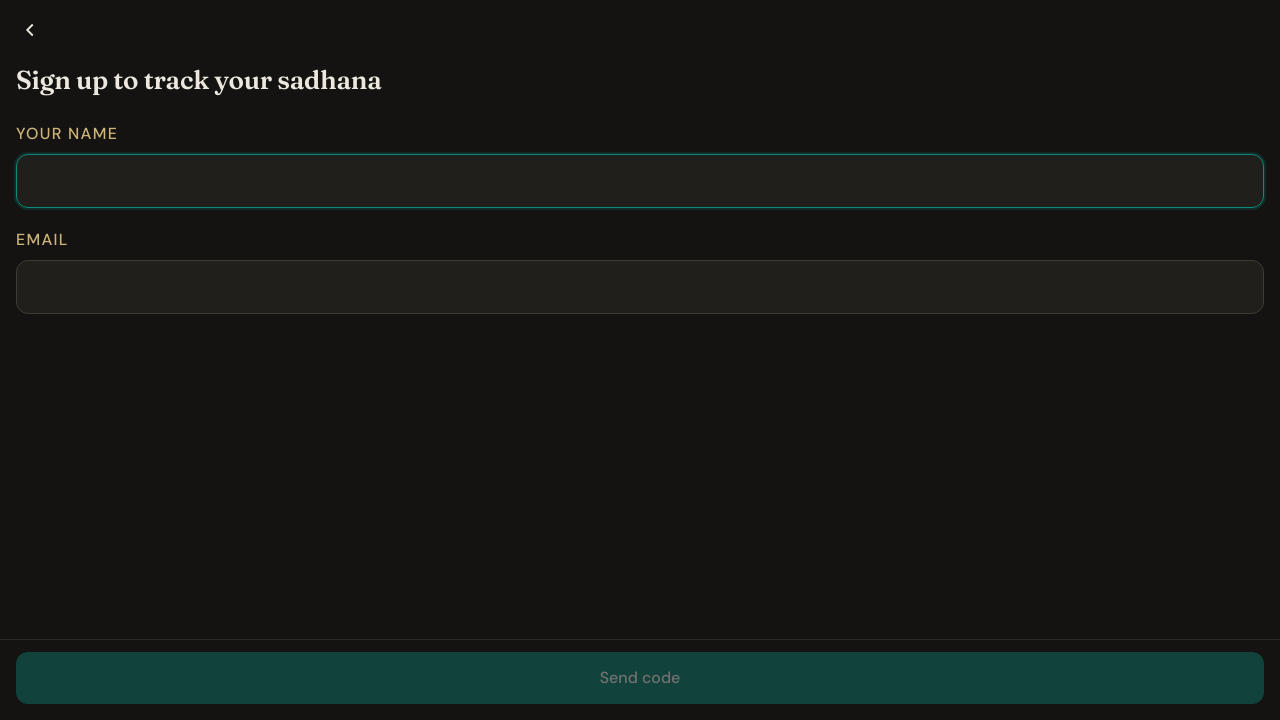
Test: SignIn › keeps explicit sign-up on the name, email, and OTP flow when auth is stale
Expected: the field labelled "Email" is shown, 16,260 -> 1264,314
Type "Priya" into the field labelled "Your name" at (640,181), box 16,154 -> 1264,208
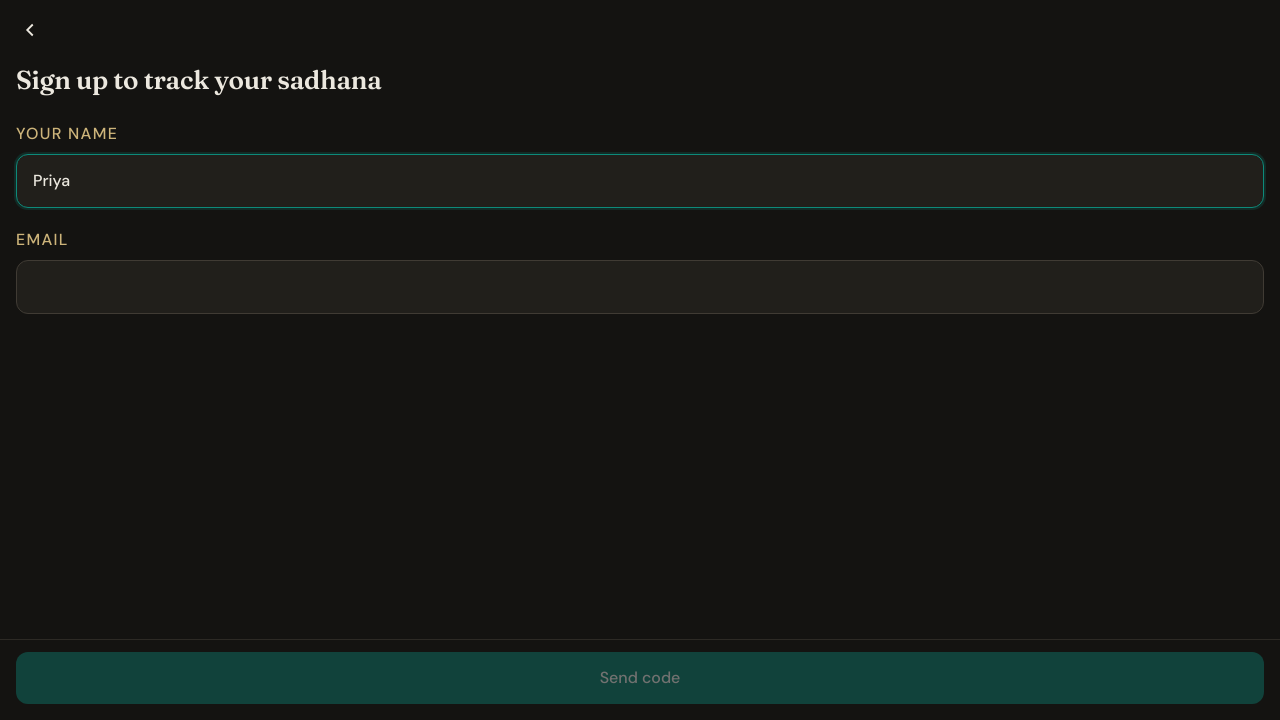
Type "a@b.co" into the field labelled "Email" at (640,287), box 16,260 -> 1264,314
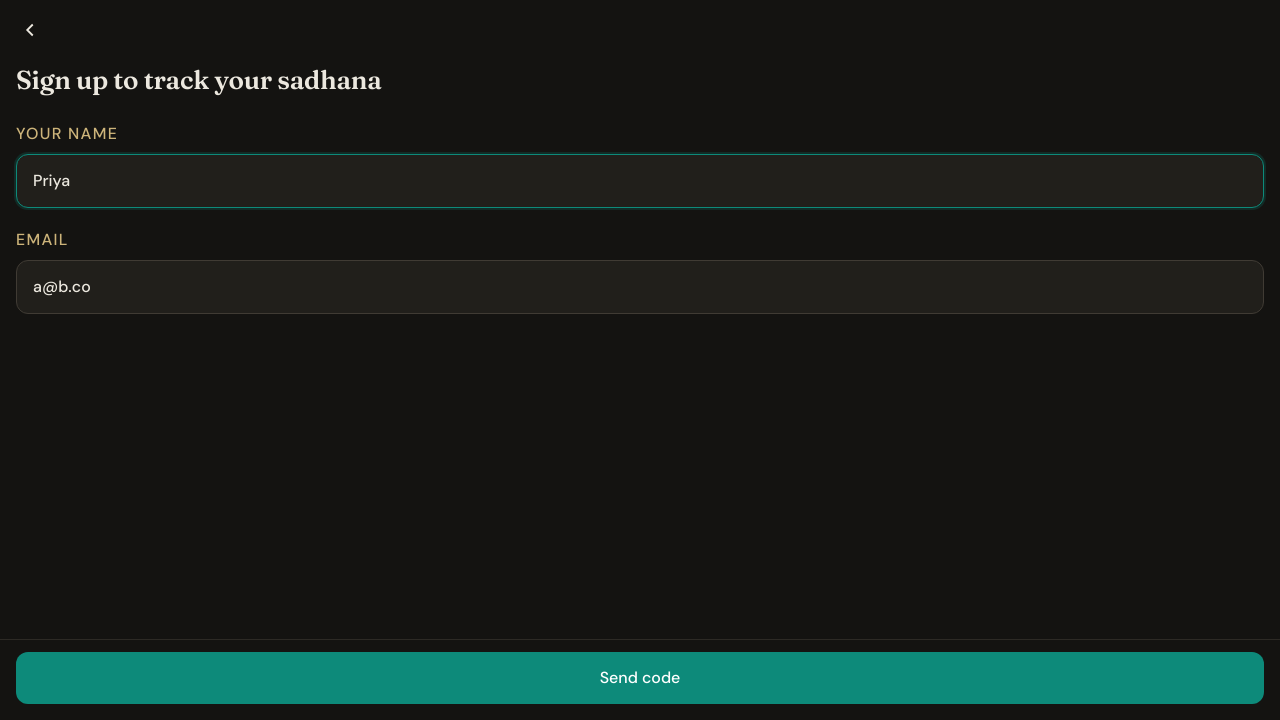
Click the button "Send code" at (640,678), box 16,652 -> 1264,704
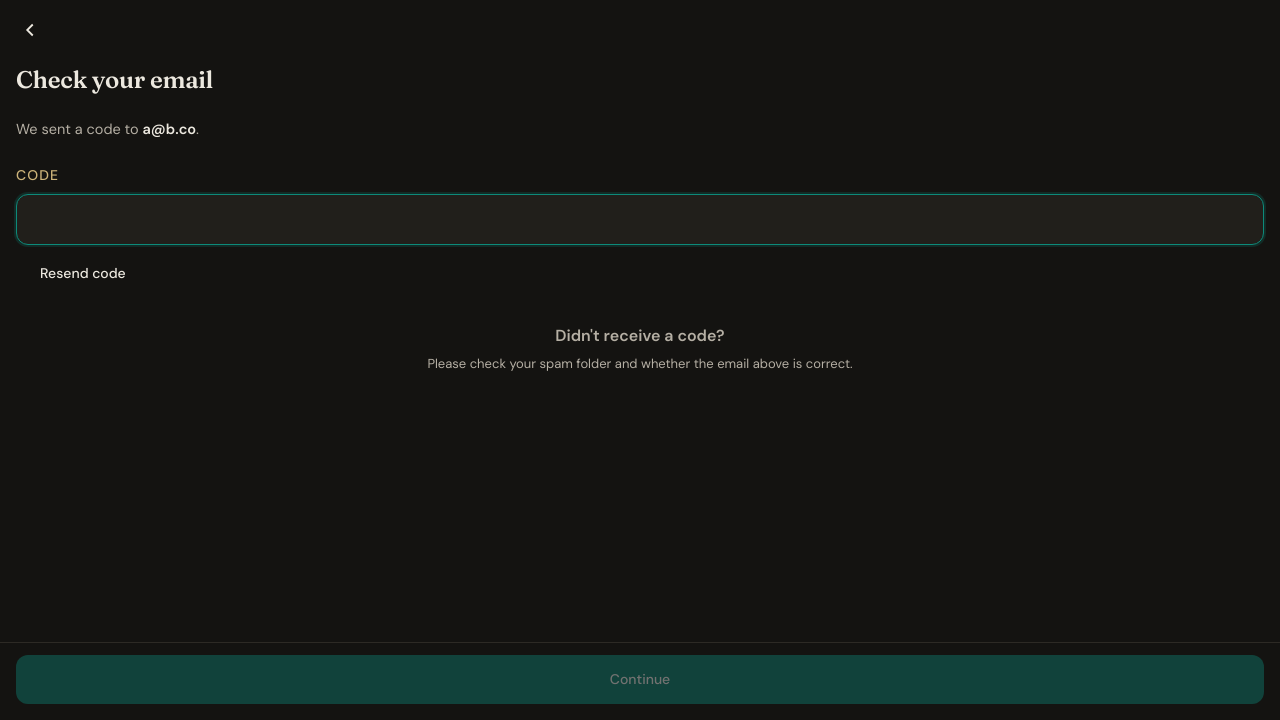
Result: the heading "Check your email" is shown at 16,65 -> 213,94
